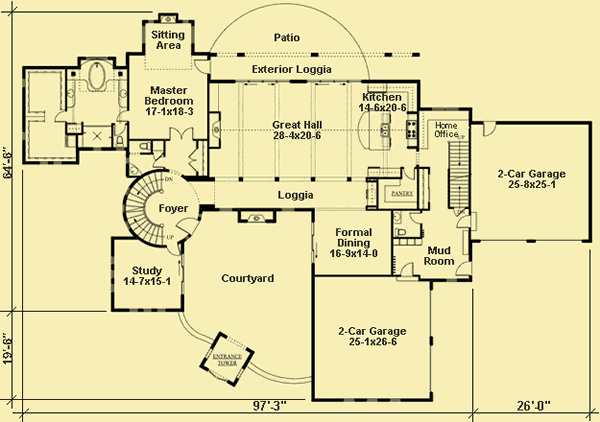door: (173, 216, 199, 236), (191, 57, 214, 76), (166, 126, 196, 140), (453, 260, 473, 278), (186, 145, 199, 170), (399, 166, 416, 182), (398, 260, 415, 276), (168, 241, 183, 258), (408, 208, 423, 225), (482, 120, 497, 137), (113, 109, 129, 124), (153, 153, 166, 171), (111, 121, 126, 136), (454, 214, 470, 228), (52, 110, 67, 124)
kitchen bar: (353, 108, 394, 153)
large sink: (393, 223, 406, 237)
small sink: (65, 77, 78, 109), (115, 79, 128, 107), (393, 209, 403, 224)
stairs: (120, 168, 167, 249), (444, 138, 473, 211)
tub: (84, 58, 107, 92)
windows: (338, 395, 404, 403), (122, 307, 167, 314), (109, 253, 116, 296)
